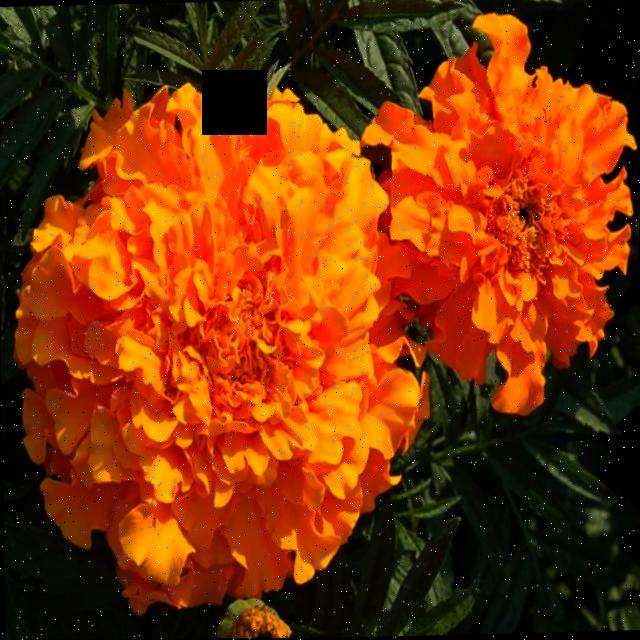marigold: (30, 20, 639, 577)
